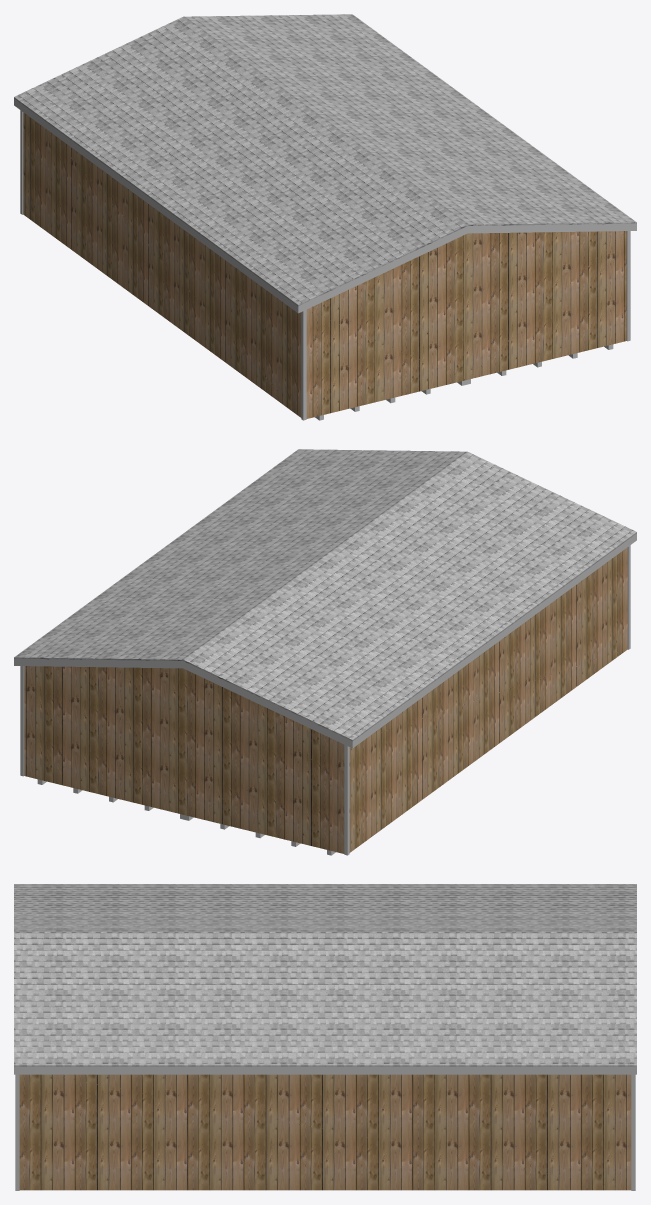
File: Double Garage 3-12 PITCH ROOF_24x36.obj
3 renders of one model, top to bottom at view 1: azimuth 30°, elevation 25°; view 2: azimuth 150°, elevation 25°; view 3: azimuth 270°, elevation 25°, orthographic. The views are drawn at different scales.
Parts seen in each view (by area): view 1: Roof, Shed, Sides, Trim; view 2: Roof, Shed, Sides, Trim; view 3: Roof, Shed, Sides, Trim.
Boxes of the visible parts, bbox=[...] form: Roof: bbox=[14, 14, 636, 306]; Shed: bbox=[23, 112, 626, 418]; Sides: bbox=[14, 98, 636, 313]; Trim: bbox=[20, 110, 630, 420]; Roof: bbox=[14, 449, 636, 741]; Shed: bbox=[24, 547, 627, 853]; Sides: bbox=[14, 533, 636, 748]; Trim: bbox=[20, 545, 630, 855]; Roof: bbox=[14, 884, 636, 1066]; Shed: bbox=[19, 1074, 631, 1190]; Sides: bbox=[14, 1066, 636, 1074]; Trim: bbox=[15, 1074, 635, 1190].
Bounding box in the file's own units: 7.62 × 3.46 × 11.07.
